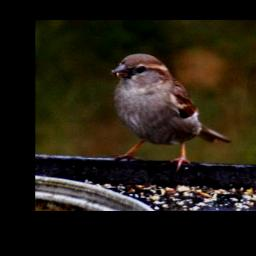Sparrow: (108, 51, 231, 173)
